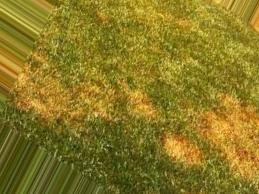patch: (202, 109, 259, 164), (29, 74, 80, 122), (126, 84, 159, 119), (169, 133, 199, 160), (89, 85, 112, 114)
